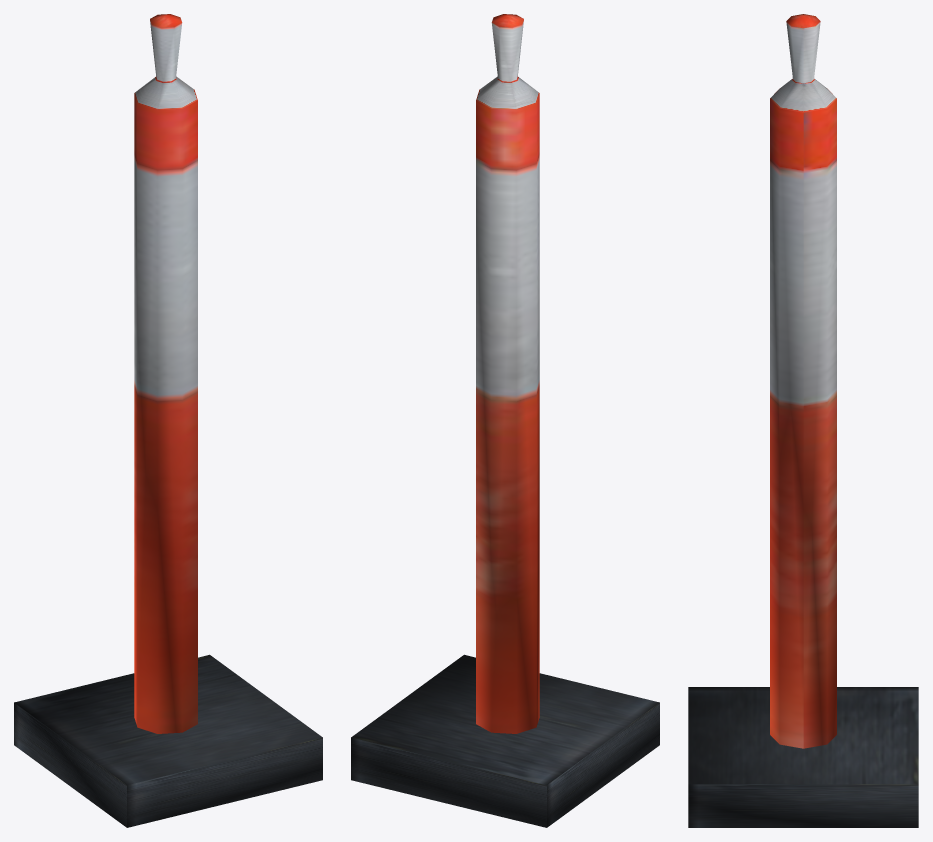
File: orangepylonPost_1.fbx
3 views of the same model, side by side, from view 1: azimuth 30°, elevation 25°; view 2: azimuth 150°, elevation 25°; view 3: azimuth 270°, elevation 25° (orthographic).
Visible parts, largest first — view 1: Cylinder02, Box03; view 2: Cylinder02, Box03; view 3: Cylinder02, Box03.
Part boxes in pixels (left/top/right/bottom): Cylinder02: left=134, top=14, right=197, bottom=733; Box03: left=14, top=654, right=322, bottom=827; Cylinder02: left=476, top=14, right=539, bottom=733; Box03: left=351, top=654, right=659, bottom=827; Cylinder02: left=770, top=14, right=836, bottom=748; Box03: left=688, top=687, right=918, bottom=827.
Size of the model in its own units: 30 by 109 by 30.
